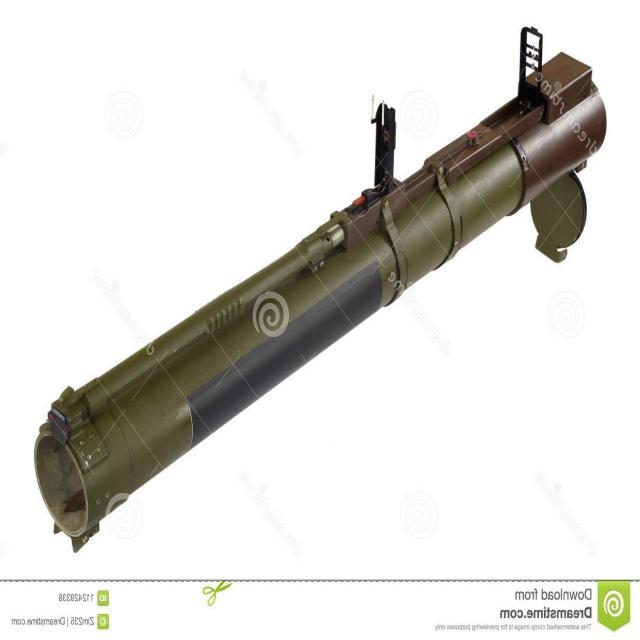rocket launcher: (22, 18, 605, 575)
